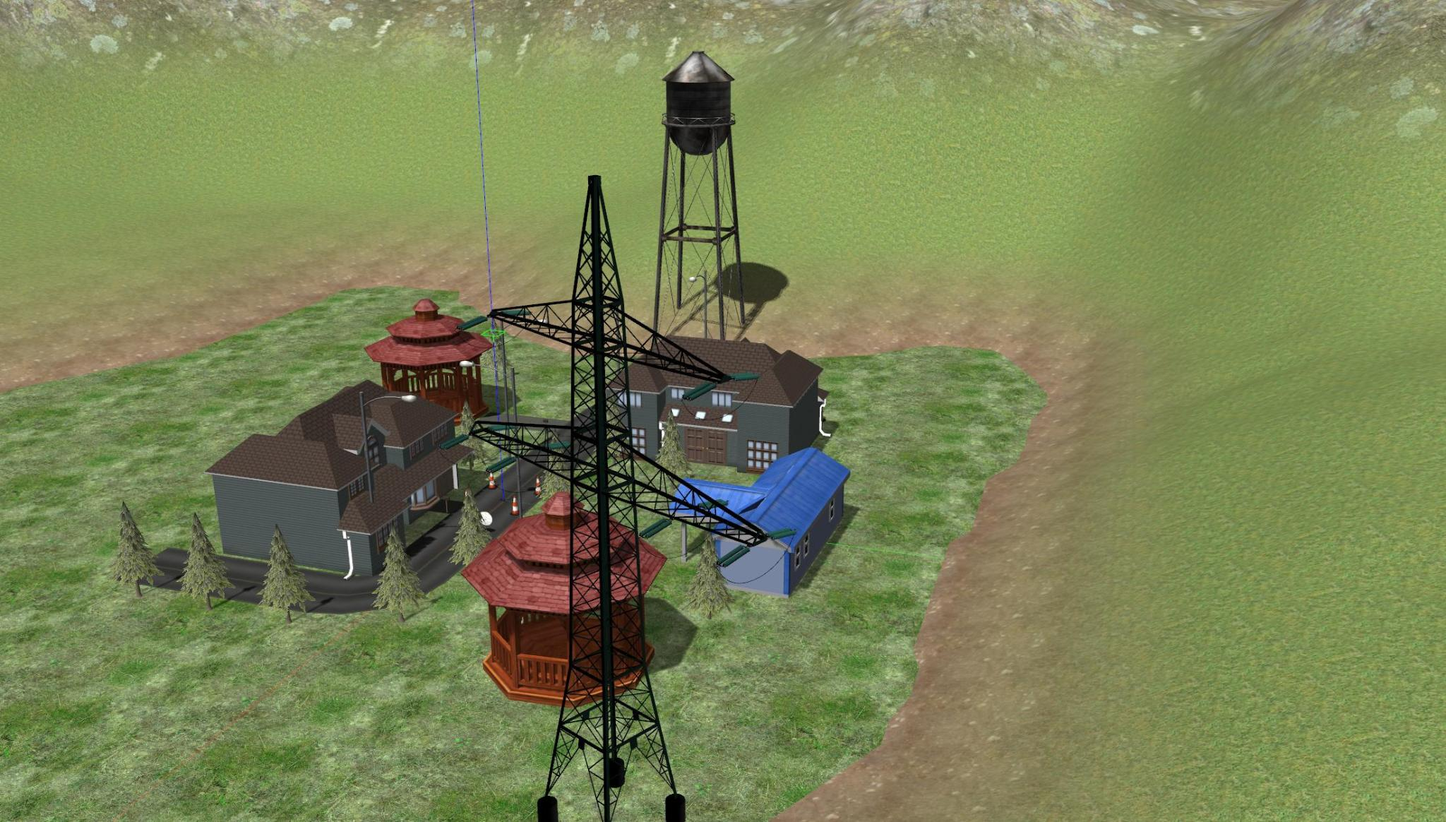tower: (474, 175, 763, 822)
